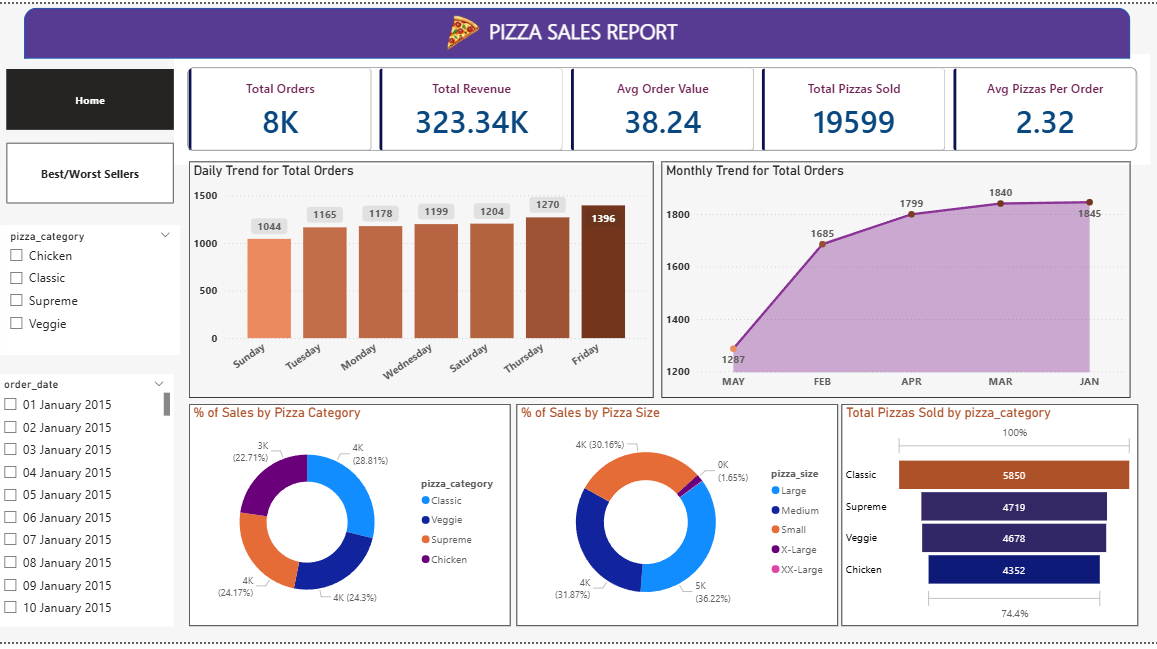

This screenshot's page, from the dashboard's own definition file:
{"tool":"powerbi","page":{"name":"Home","canvas":[1500,820],"ordinal":0},"visuals":[{"type":"cardVisual","fields":{"Data":["pizza_db pizza_sales.Total Orders","pizza_db pizza_sales.Total Revenue","pizza_db pizza_sales.Avg Order Value","pizza_db pizza_sales.Total Pizzas Sold","pizza_db pizza_sales.Avg Pizzas Per Order"]},"box":[231.2,64.1,1256.2,142.1],"z":0},{"type":"shape","box":[39,4.2,1423.3,65.5],"z":1000},{"type":"textbox","box":[632.3,11.1,261.8,52.9],"z":2000},{"type":"image","box":[572.4,11.1,59.9,52.9],"z":3000},{"type":"columnChart","title":"Daily Trend for Total Orders","fields":{"Y":["pizza_db pizza_sales.Total Orders"],"Category":["pizza_db pizza_sales.Day Name"]},"box":[250.7,203.3,597.5,303.6],"z":4000},{"type":"areaChart","title":"Monthly Trend for Total Orders","fields":{"Category":["pizza_db pizza_sales.Order Month"],"Y":["pizza_db pizza_sales.Total Orders"]},"box":[859.3,203.3,603,303.6],"z":5000},{"type":"donutChart","title":"% of Sales by Pizza Category","fields":{"Y":["pizza_db pizza_sales.Total Orders"],"Category":["pizza_db pizza_sales.pizza_category"]},"box":[250.7,515.3,413.6,285.5],"z":6000},{"type":"donutChart","title":"% of Sales by Pizza Size","fields":{"Y":["pizza_db pizza_sales.Total Orders"],"Category":["pizza_db pizza_sales.pizza_size"]},"box":[672.7,515.3,413.6,285.5],"z":7000},{"type":"funnel","fields":{"Y":["pizza_db pizza_sales.Total Pizzas Sold"],"Category":["pizza_db pizza_sales.pizza_category"]},"box":[1090.5,515.3,381.6,285.5],"z":8000},{"type":"slicer","fields":{"Values":["pizza_db pizza_sales.pizza_category"]},"box":[8,284.6,231.6,167.2],"z":8001},{"type":"slicer","fields":{"Values":["pizza_db pizza_sales.order_date"]},"box":[0,476,231.6,324.8],"z":8002},{"type":"pageNavigator","box":[16.1,83.6,215.5,78.8],"z":8003},{"type":"pageNavigator","box":[16.1,178.5,215.5,78.8],"z":8004}]}

Visuals, with their boxes on the page's 1500x820 design canvas (x1, y1, x2, y2). These are canvas units, not pixel positions in the 1157x649 screenshot, which may show the page scaled, cropped or inside an application window:
cardVisual - pizza_db pizza_sales.Total Orders x pizza_db pizza_sales.Total Revenue: Rect(231, 64, 1487, 206)
shape: Rect(39, 4, 1462, 70)
textbox: Rect(632, 11, 894, 64)
image: Rect(572, 11, 632, 64)
"Daily Trend for Total Orders" columnChart: Rect(251, 203, 848, 507)
"Monthly Trend for Total Orders" areaChart: Rect(859, 203, 1462, 507)
"% of Sales by Pizza Category" donutChart: Rect(251, 515, 664, 801)
"% of Sales by Pizza Size" donutChart: Rect(673, 515, 1086, 801)
funnel - pizza_db pizza_sales.Total Pizzas Sold x pizza_db pizza_sales.pizza_category: Rect(1090, 515, 1472, 801)
slicer - pizza_db pizza_sales.pizza_category: Rect(8, 285, 240, 452)
slicer - pizza_db pizza_sales.order_date: Rect(0, 476, 232, 801)
pageNavigator: Rect(16, 84, 232, 162)
pageNavigator: Rect(16, 178, 232, 257)
